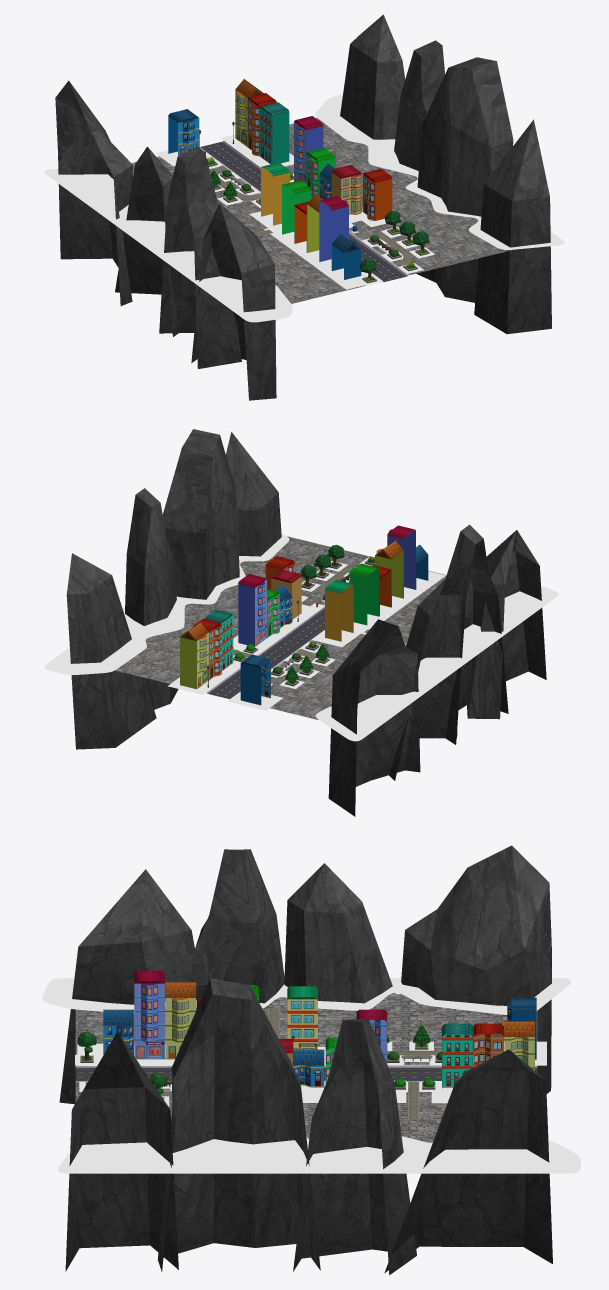
The model's file is City_04.fbx.
3 views of the same model, one above another, from view 1: azimuth 30°, elevation 25°; view 2: azimuth 150°, elevation 25°; view 3: azimuth 270°, elevation 25° (orthographic). The views are drawn at different scales.
Parts seen in each view (by area): view 1: City_04; view 2: City_04; view 3: City_04.
Boxes of the visible parts, x1=… form: City_04: x1=44, y1=14, x2=564, y2=400; City_04: x1=44, y1=429, x2=558, y2=816; City_04: x1=42, y1=845, x2=580, y2=1275.
Size of the model in its own units: 22617 by 13384 by 25170.
Materials: 11 (11 with a texture image).
